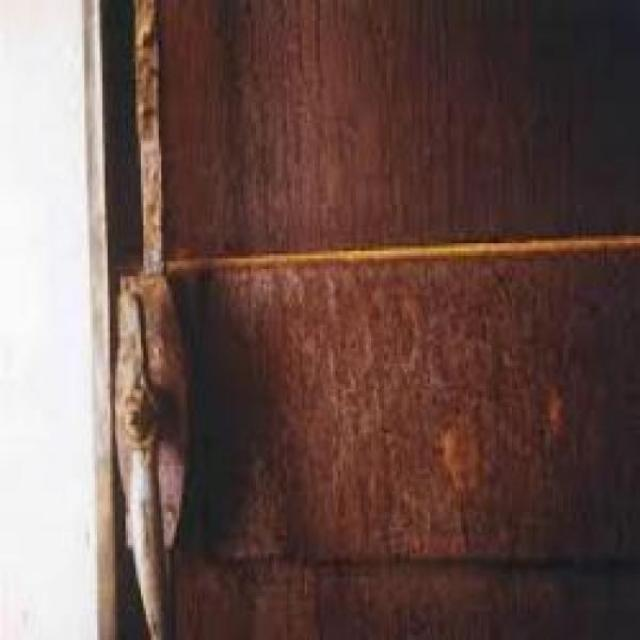corrosion: (102, 0, 639, 639)
